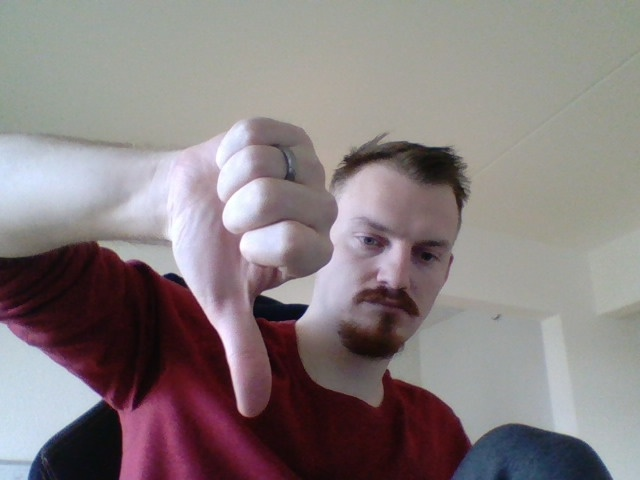ThumpsDown: (176, 114, 339, 419)
